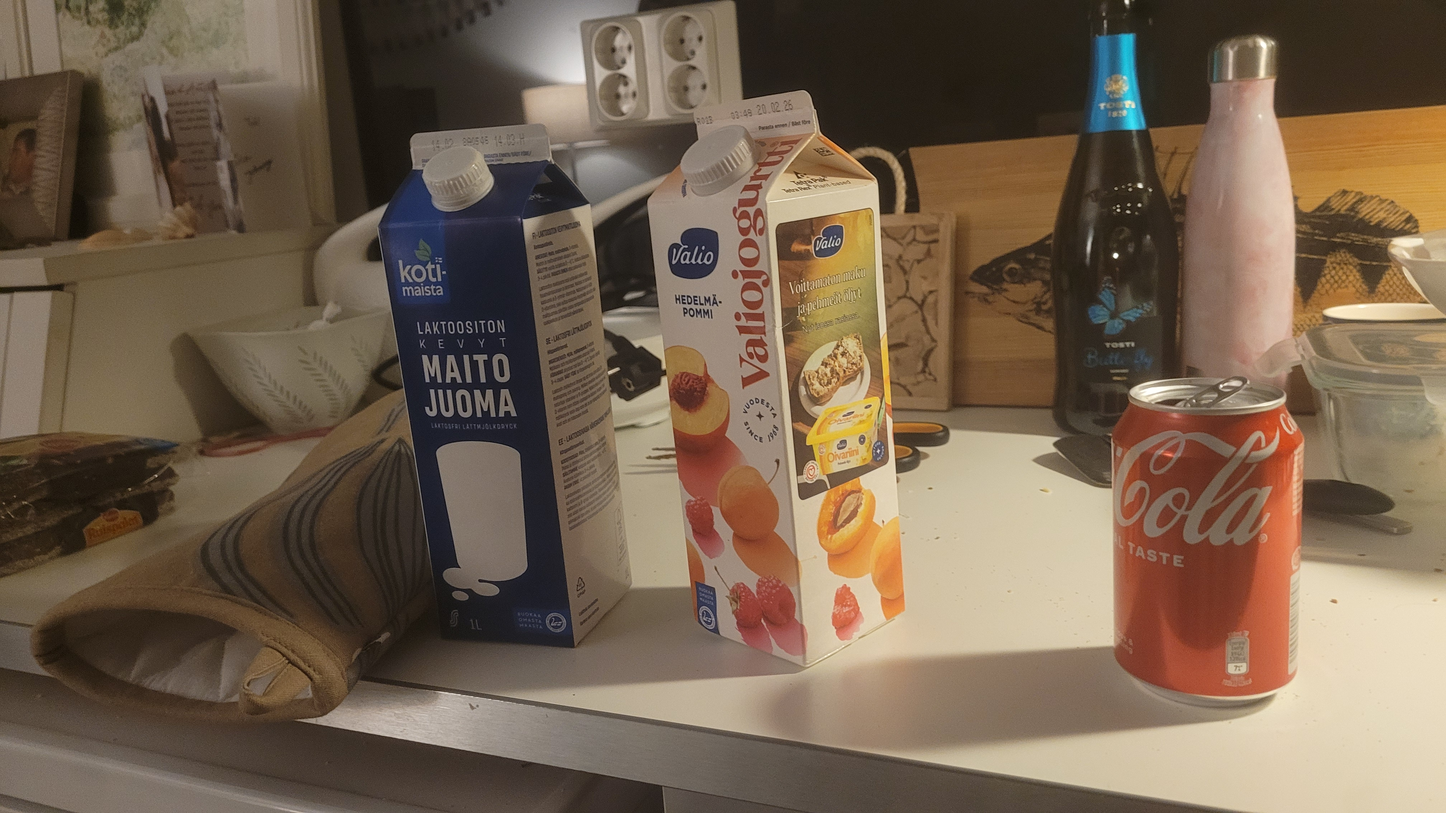Dryckeskartong: (647, 91, 906, 666), (377, 126, 633, 648)
Pantburk: (1108, 376, 1304, 711)
